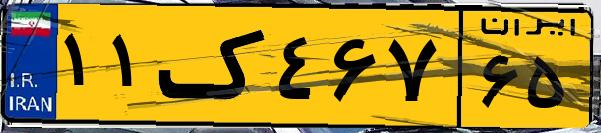1: (57, 26, 110, 100), (110, 28, 158, 98)
4: (270, 28, 330, 110)
5: (525, 38, 570, 115)
6: (330, 28, 385, 110), (475, 38, 525, 113)
7: (385, 28, 445, 110)
ک: (158, 12, 270, 120)
